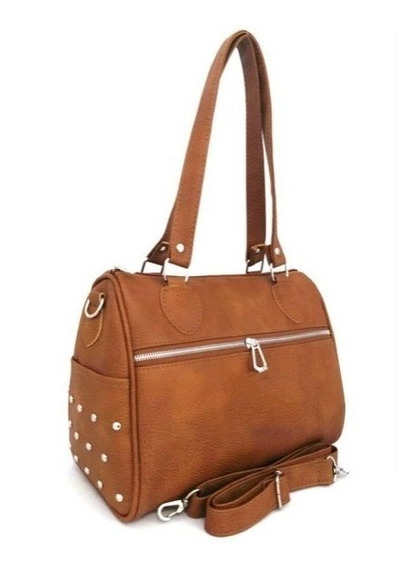cartera: (68, 29, 348, 526)
